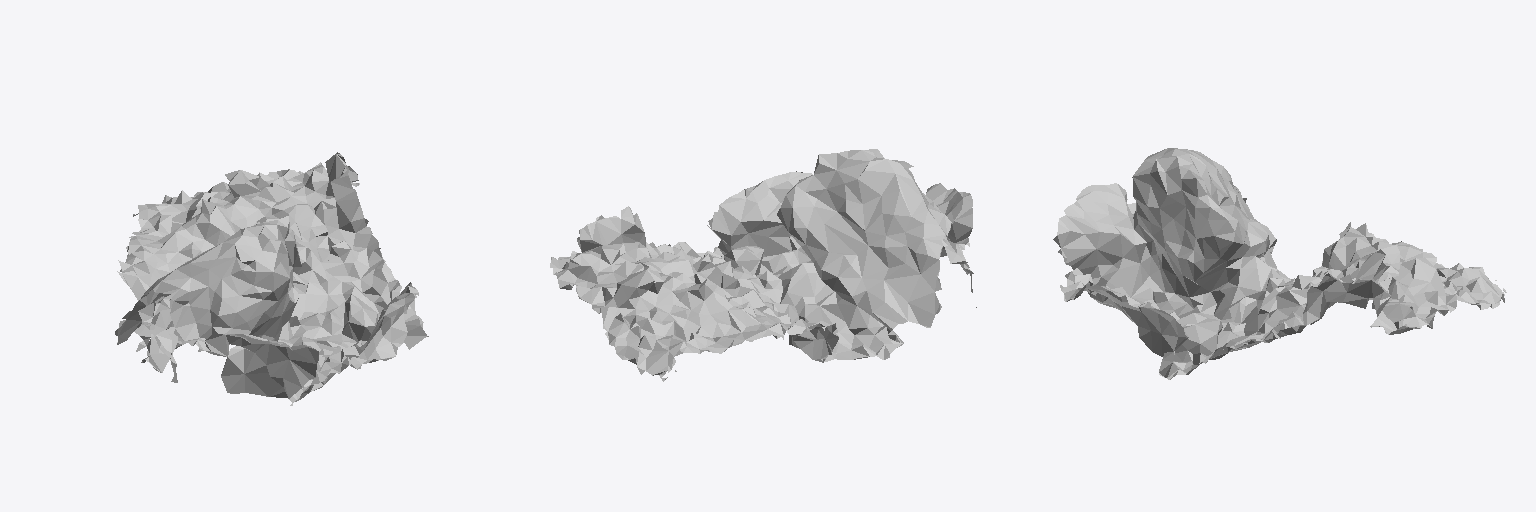
The model's file is dirt_small.obj.
3 views of the same model, side by side, from view 1: azimuth 30°, elevation 25°; view 2: azimuth 150°, elevation 25°; view 3: azimuth 270°, elevation 25° (orthographic).
Visible parts, largest first — view 1: Model; view 2: Model; view 3: Model.
Boxes of the visible parts, box(x1,y1,x2,y2) form: Model: box(115, 152, 428, 405); Model: box(550, 149, 976, 381); Model: box(1053, 148, 1506, 379).
Bounding box in the file's own units: 4.26 × 2.03 × 5.29.